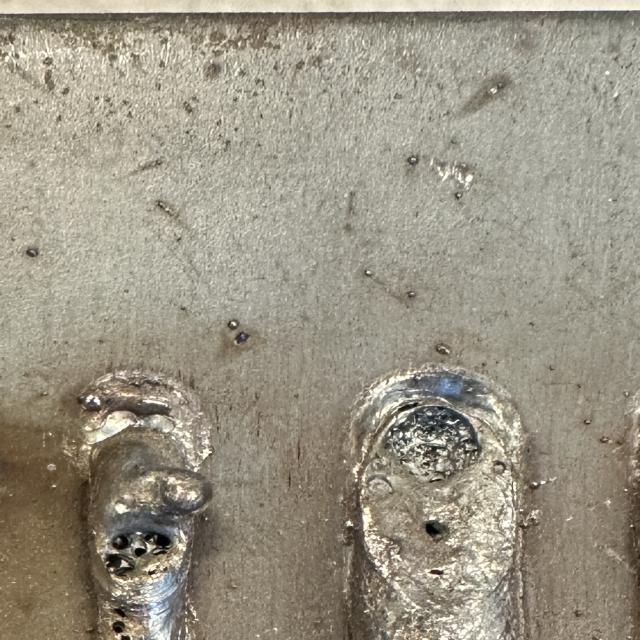Excess Reinforcement: (78, 370, 210, 431), (117, 470, 212, 516)
Porosity: (385, 405, 482, 482), (102, 531, 172, 580), (105, 554, 135, 575), (425, 520, 450, 541), (145, 532, 172, 549), (395, 402, 422, 413), (112, 535, 130, 550), (148, 566, 168, 576), (113, 608, 127, 619), (112, 621, 125, 632), (133, 548, 147, 556), (120, 634, 133, 640)
Spatters: (520, 509, 542, 529), (435, 342, 452, 355), (23, 246, 40, 259), (345, 520, 357, 536), (528, 480, 547, 490), (407, 155, 420, 166), (228, 319, 240, 330), (487, 85, 500, 95), (493, 81, 507, 90), (405, 290, 417, 299), (598, 436, 610, 444), (455, 191, 463, 200), (583, 419, 593, 425), (363, 270, 373, 276), (623, 390, 630, 398)
